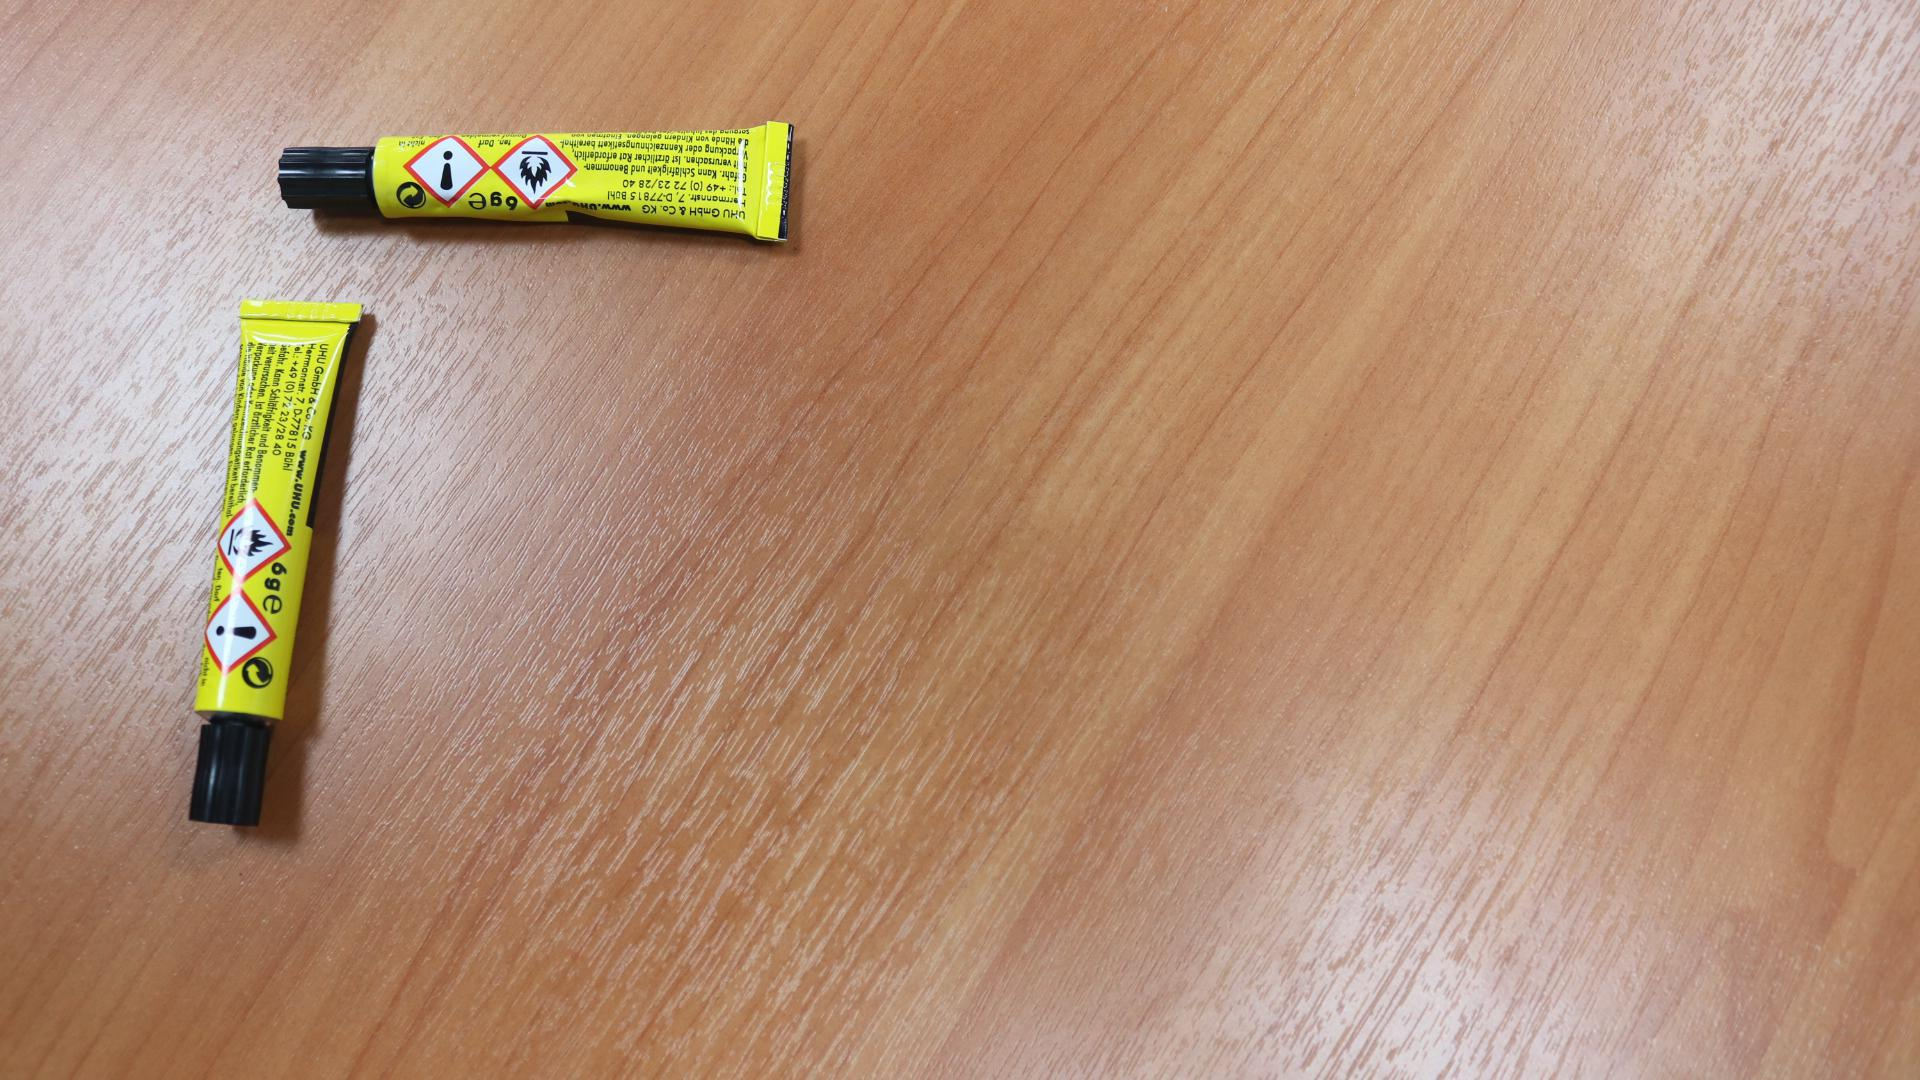Head: (320, 165, 337, 185), (223, 761, 236, 775)
Tail: (769, 169, 782, 189), (290, 303, 304, 316)
Tube: (186, 300, 362, 825), (278, 119, 794, 242)
